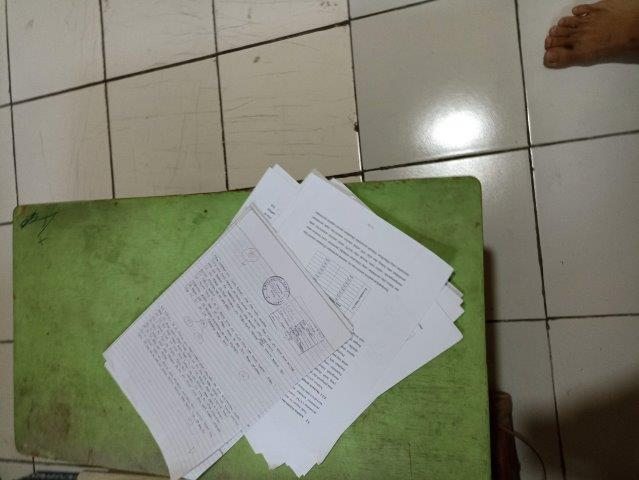kertas: (101, 164, 465, 480)
